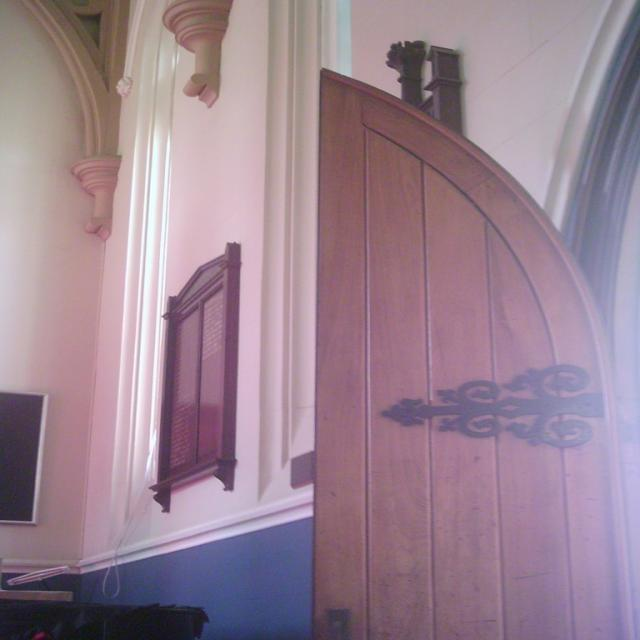door: (314, 64, 640, 640)
